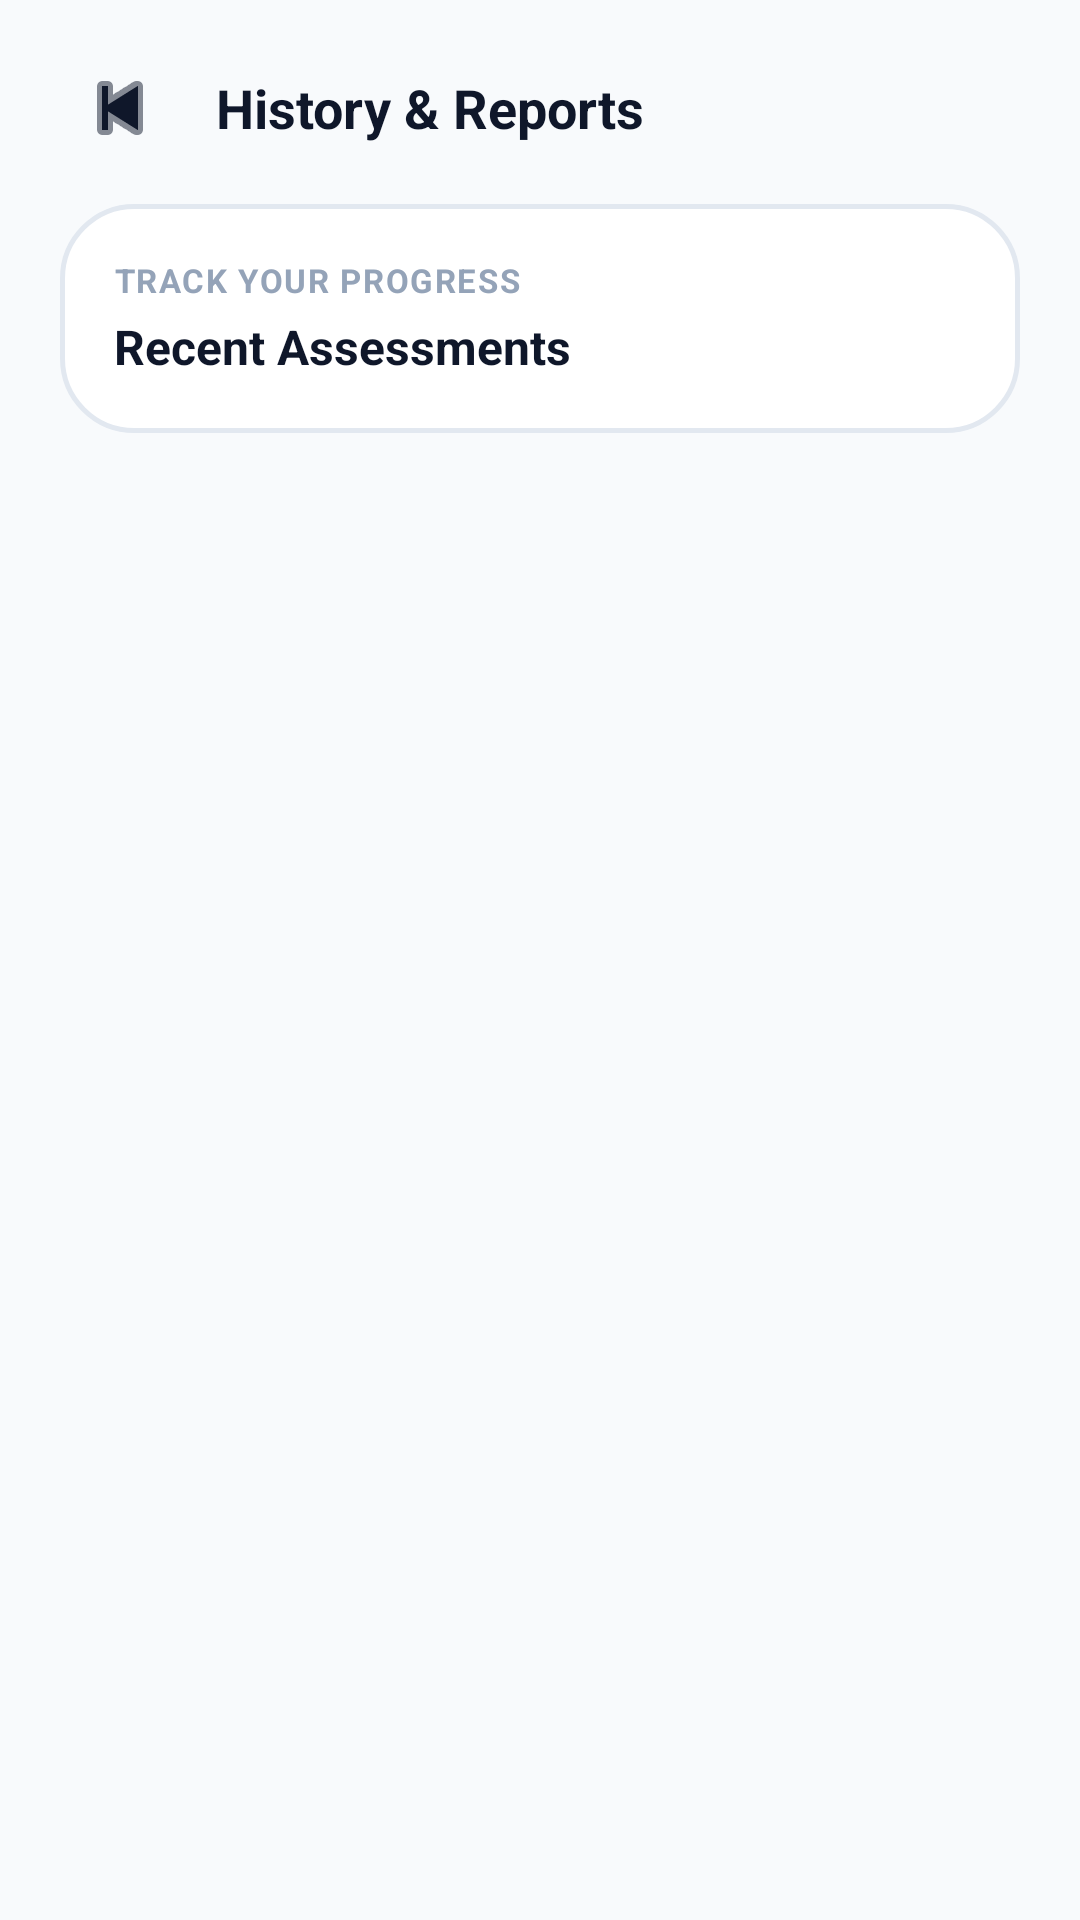

Named icons in this screenshot (1080*1920) and their centers, point (x, y):
Back: point (120, 108)
